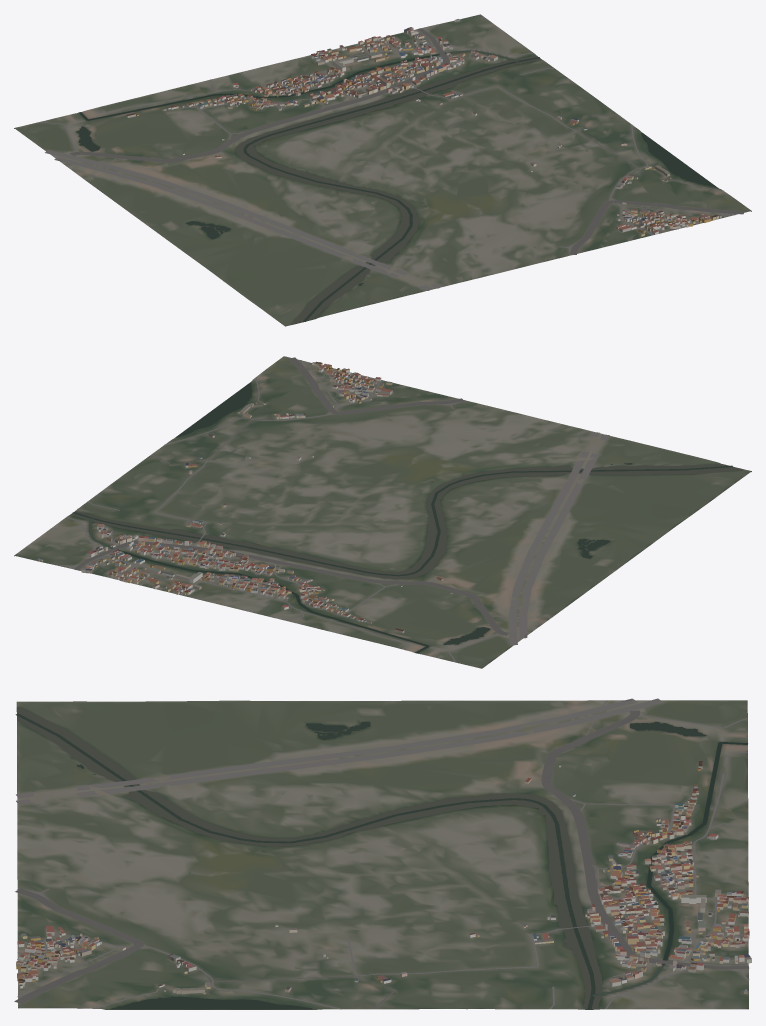
The picture shows the model from 3 angles, top to bottom: view 1: azimuth 30°, elevation 25°; view 2: azimuth 150°, elevation 25°; view 3: azimuth 270°, elevation 25°; orthographic projection. The views are drawn at different scales.
Visible parts, largest first — view 1: ground, water, buildings, roads; view 2: ground, water, buildings, roads; view 3: ground, water, buildings, roads.
Boxes of the visible parts, x1,y1,x2,y2 form: ground: (14, 14, 751, 326); water: (76, 50, 716, 324); buildings: (126, 19, 721, 236); roads: (41, 24, 744, 290); ground: (14, 356, 751, 668); water: (70, 382, 744, 653); buildings: (37, 361, 452, 633); roads: (50, 357, 609, 662); ground: (16, 700, 748, 1009); water: (15, 706, 747, 1009); buildings: (16, 761, 751, 994); roads: (14, 698, 749, 1009).
Bounding box in the file's own units: 1410 × 20.32 × 1415.
